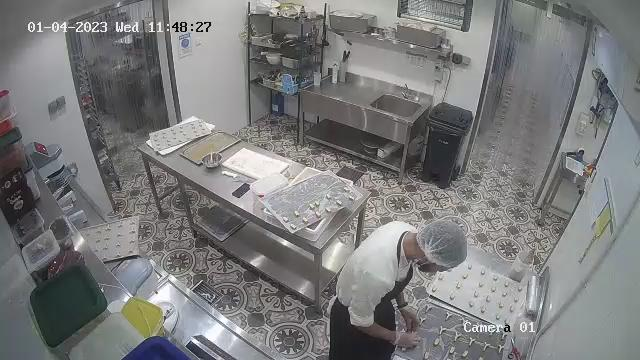apron: (343, 228, 419, 360)
